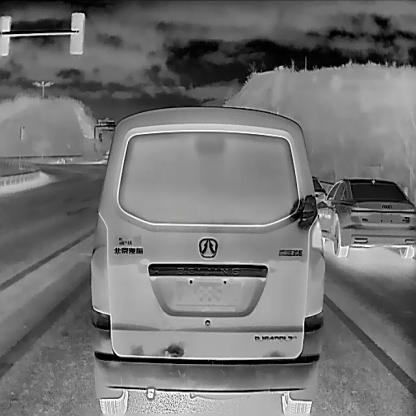car: (89, 104, 325, 415), (311, 177, 415, 259)
